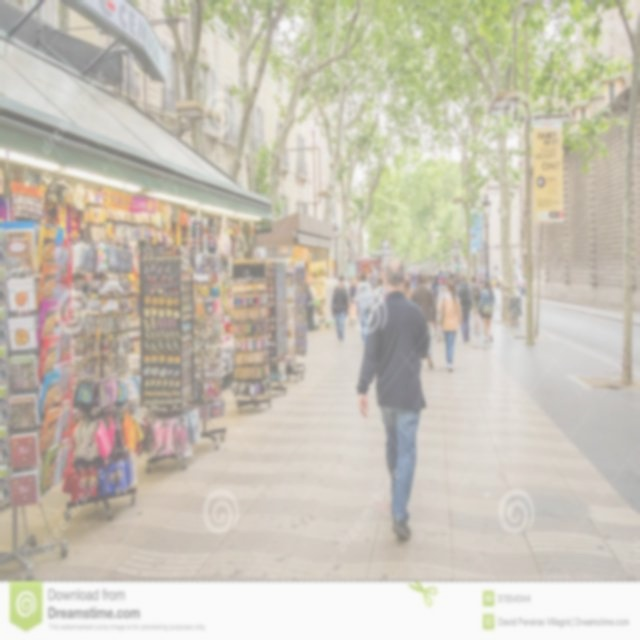pessoa: (354, 256, 432, 541), (408, 272, 437, 369), (435, 279, 463, 373), (354, 272, 372, 347), (455, 272, 473, 344), (476, 279, 496, 343), (331, 274, 348, 344), (432, 273, 448, 342), (471, 275, 482, 336), (306, 281, 316, 332), (372, 276, 386, 310), (404, 268, 418, 298), (370, 270, 388, 291), (430, 273, 442, 303), (438, 268, 458, 282), (346, 276, 354, 304), (349, 280, 357, 300), (520, 272, 526, 298), (364, 271, 372, 286), (476, 272, 484, 286), (423, 272, 431, 286), (513, 272, 517, 290), (354, 274, 361, 284), (428, 274, 433, 286)
